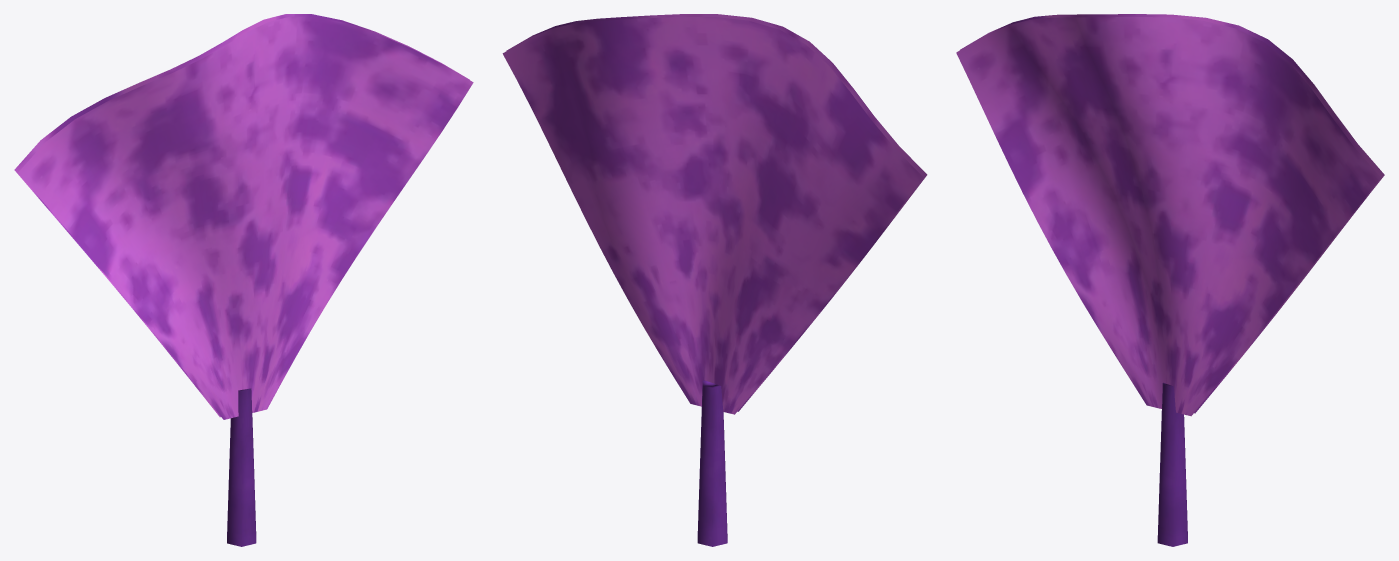
File: coral_fan.glb
3 views of the same model, side by side, from view 1: azimuth 30°, elevation 25°; view 2: azimuth 150°, elevation 25°; view 3: azimuth 330°, elevation 25° (orthographic). The views are drawn at different scales.
Bounding box in the file's own units: 0.8 × 0.9 × 0.0831.
1 material, 1 textured.
